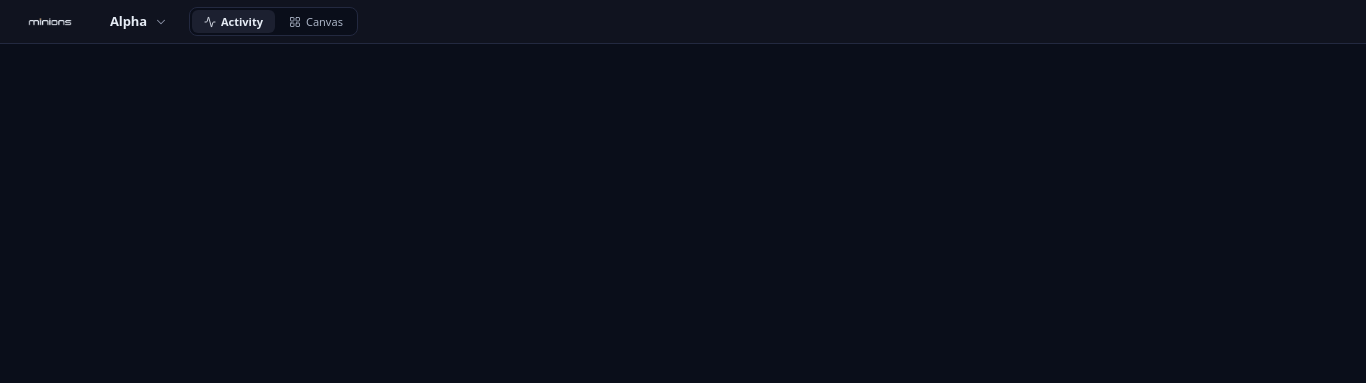
Test: ProjectHeader project navigation › counts executing crew across leader rosters and child sessions without duplicates
Click the button "Alpha" at {"x": 138, "y": 22}, box top-left (99, 6), bottom-right (177, 37)
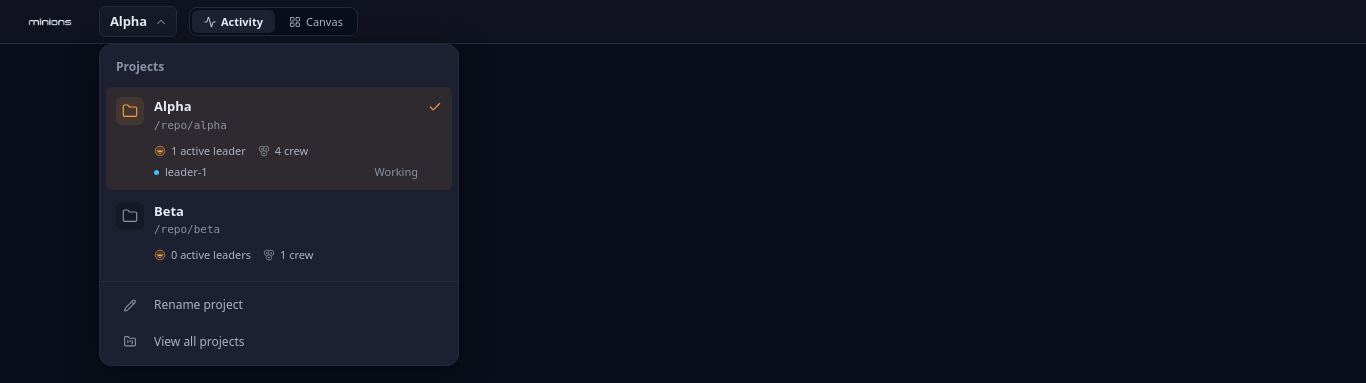
Check: the text "1 active leader" is shown, box top-left (154, 143), bottom-right (246, 158)
Check: the text "4 crew" is shown, box top-left (258, 143), bottom-right (308, 158)
Check: the text "1 crew" is shown, box top-left (263, 247), bottom-right (314, 263)
